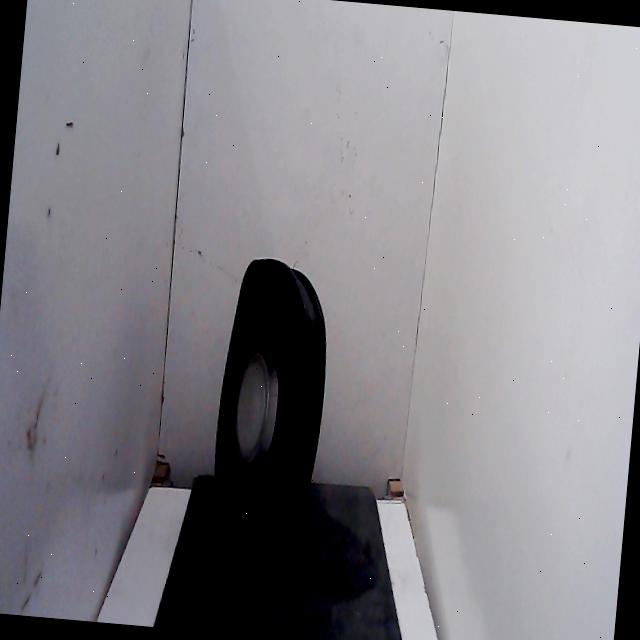plastico: (197, 248, 342, 584)
